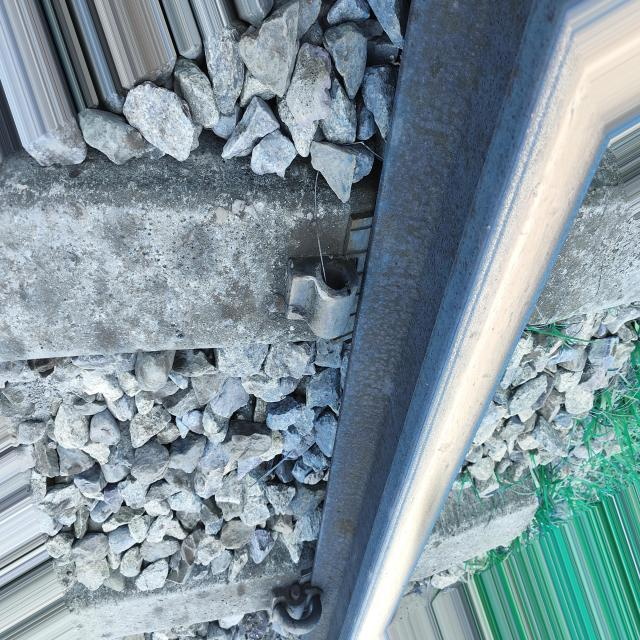Good Fasteners: (270, 584, 322, 635)
Missing Fastener: (284, 244, 363, 353)
